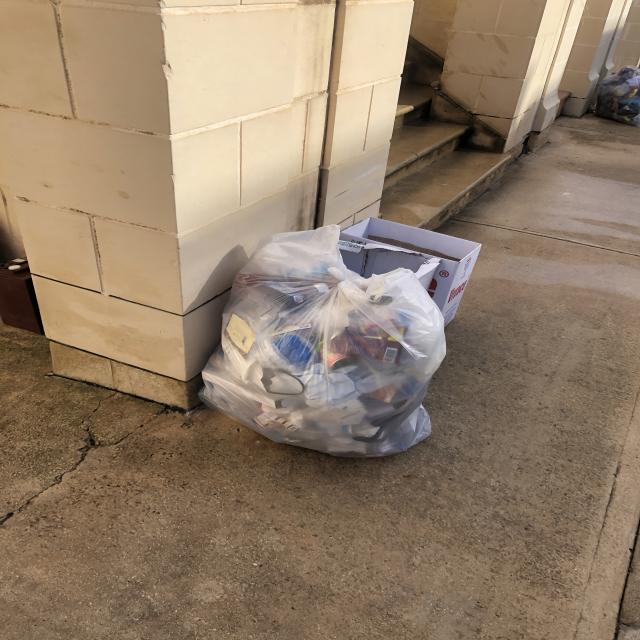Organic Waste -White Bag-: (194, 241, 438, 459)
